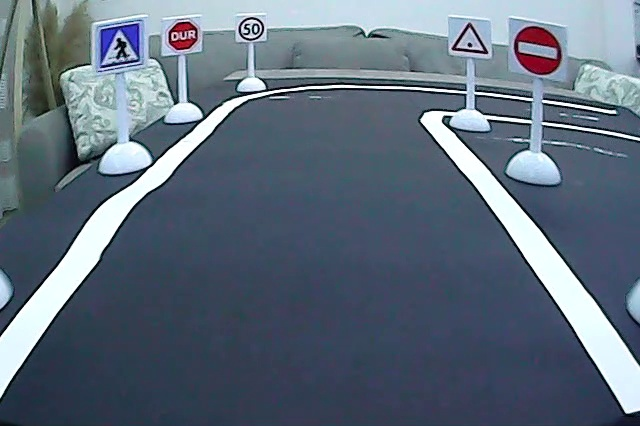do not enter: (511, 20, 564, 79)
green light: (450, 20, 492, 57)
pedestrian crossing: (97, 22, 145, 69)
speed limit 50: (237, 14, 267, 42)
stop sign: (165, 18, 203, 54)
